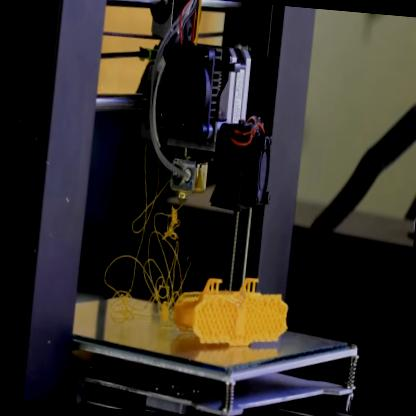fail: (106, 193, 187, 328)
